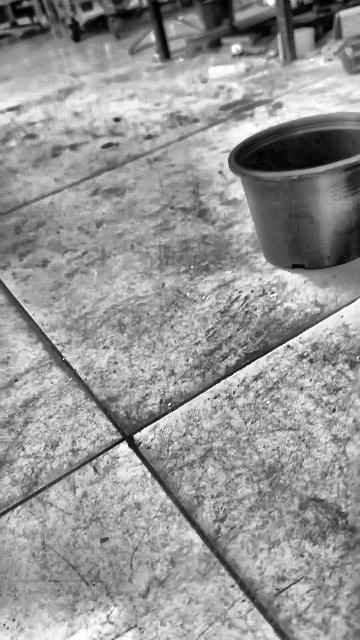pot: (228, 114, 360, 270)
